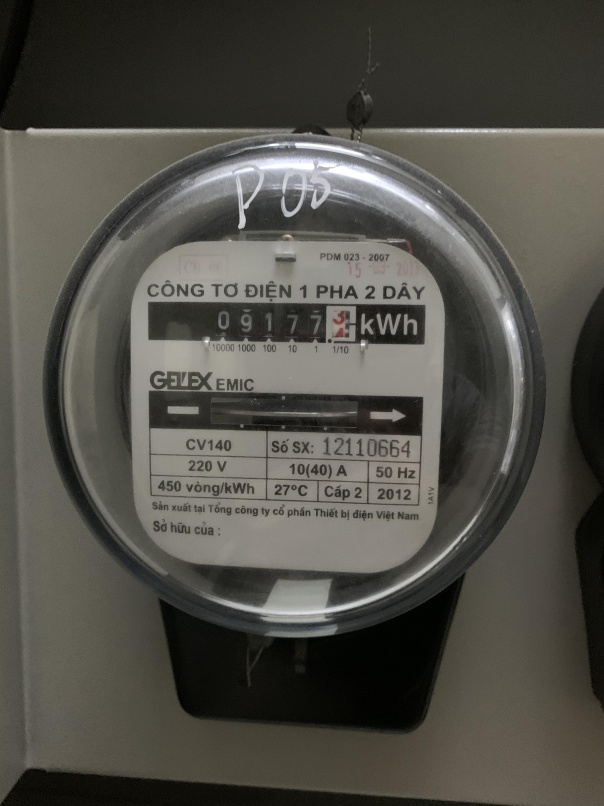counter: (148, 299, 428, 347)
electricity_meter: (48, 139, 541, 637)
